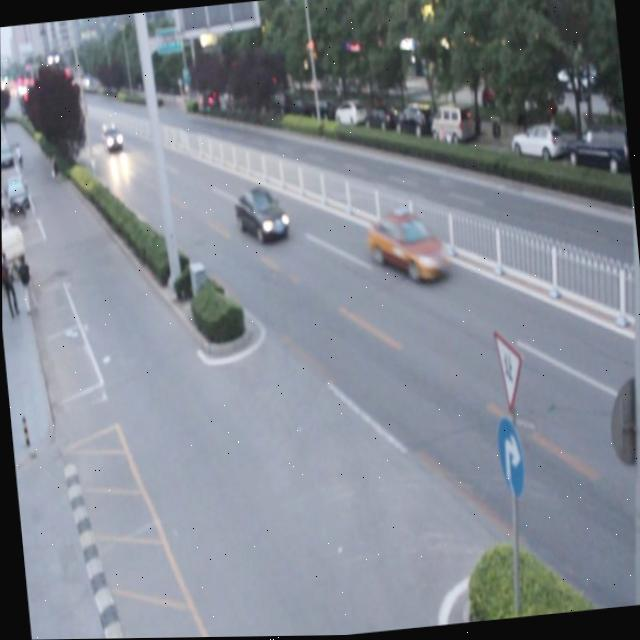car: (365, 205, 449, 291), (232, 183, 288, 243)
